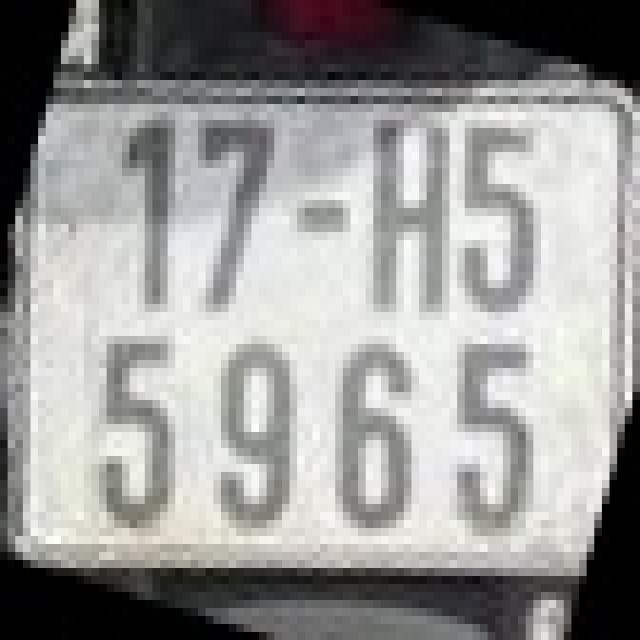1: (122, 112, 183, 312)
5: (449, 336, 541, 528), (457, 120, 541, 312), (99, 336, 175, 528)
6: (335, 336, 419, 528)
7: (190, 112, 274, 312)
9: (213, 336, 297, 528)
H: (366, 112, 458, 312)
